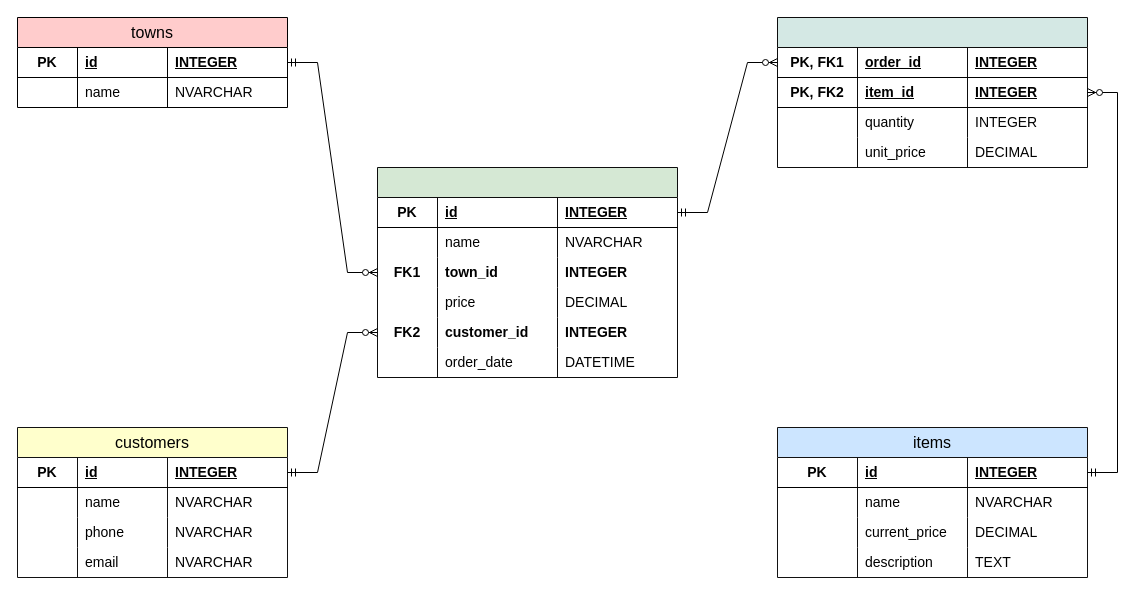
Some shapes in this 1144 by 595 pixel diagram are drawn without their labels. Each missing label, with the box of its shape:
orders: (376, 166, 678, 378)
orders_items: (776, 16, 1088, 168)
